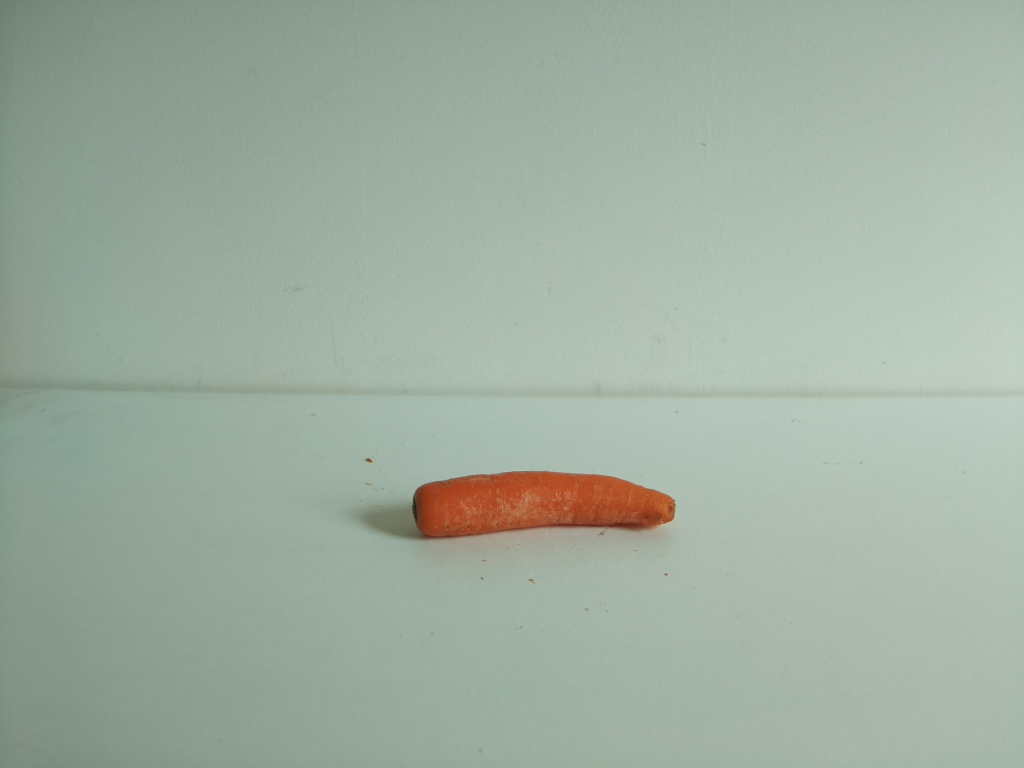carrot: (408, 470, 680, 545)
